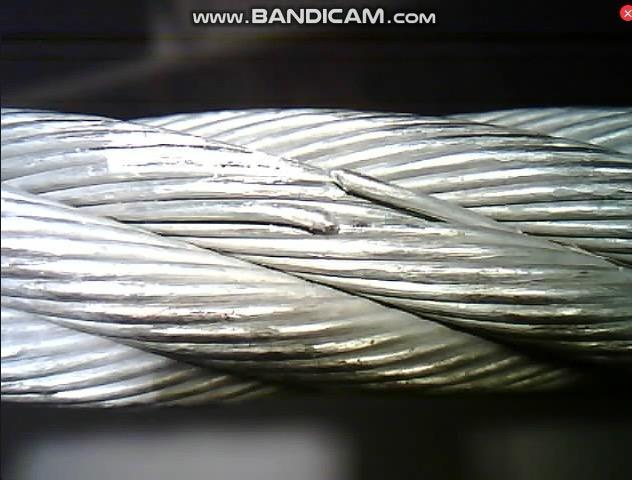break: (287, 161, 369, 245)
